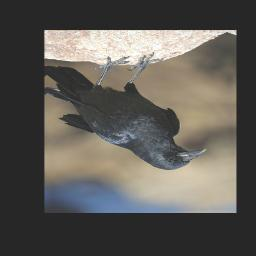Crow: (46, 51, 210, 174)
